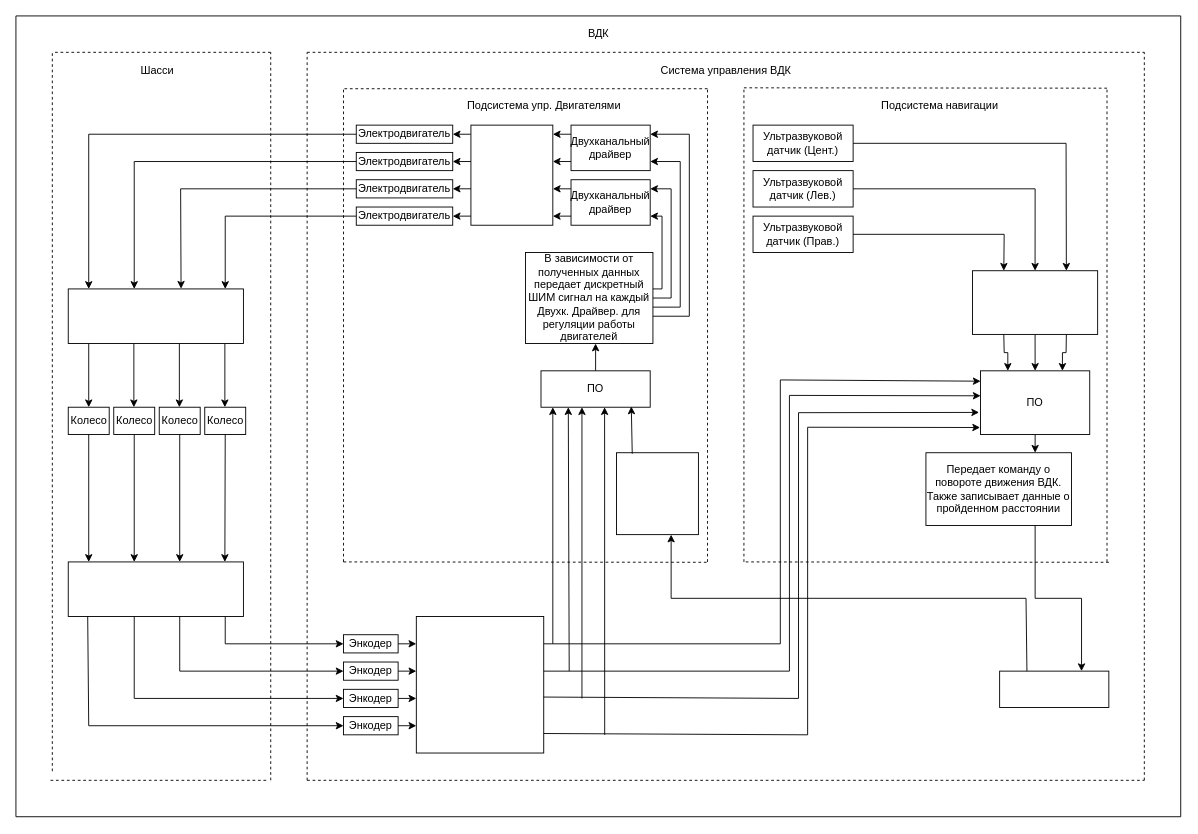
This 1198x834 diagram has some shape labels left out. The shapes that lost their labels are listed below. From the top down, each one's box as (x1, y1, x2, y2) in pixels, then its label:
(470, 124, 553, 225): Двухканальные драйвера передают ток в зависимости от сигнала на входе
(67, 288, 243, 344): Работа вала двигателя приводит колесо в движение
(972, 270, 1098, 334): передает аналоговый сигнал показывающий расстояние до препятствия
(616, 452, 698, 535): Передает команду о повороте движения ВДК
(67, 561, 243, 617): Энкодер проверяет условие наличия щели, преобразуя в дискретный сигнал
(415, 616, 544, 753): Передает дискретный сигнал
(999, 670, 1109, 708): Микроконтроллер
